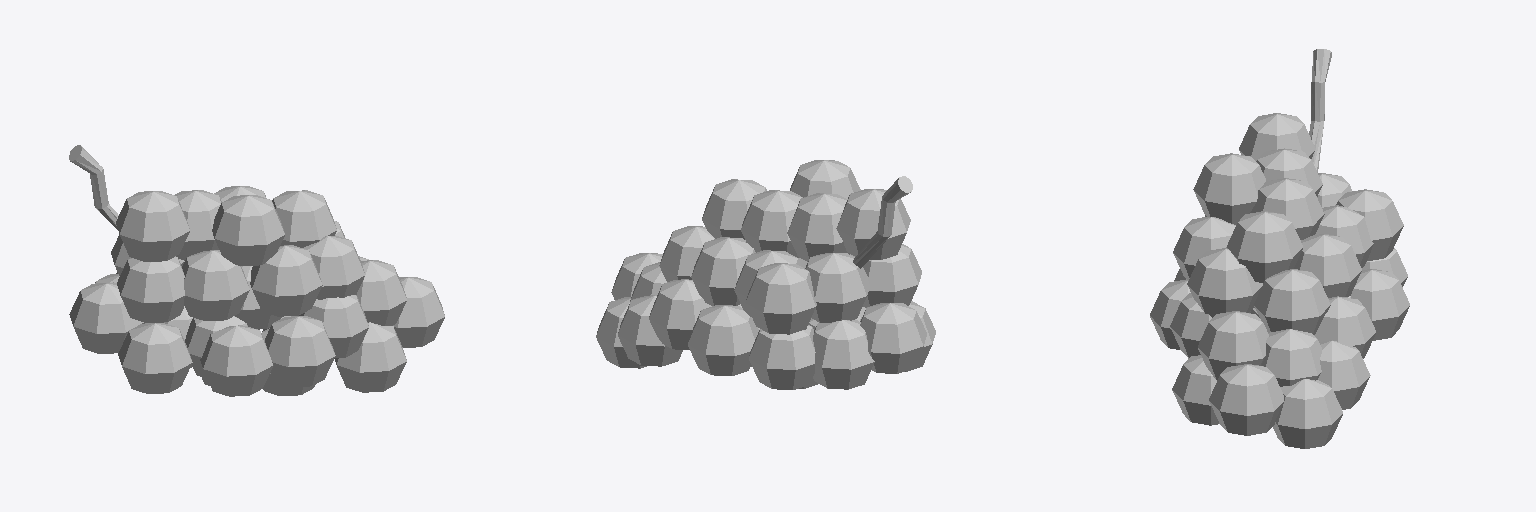
The model's file is grapes.obj.
3 views of the same model, side by side, from view 1: azimuth 30°, elevation 25°; view 2: azimuth 150°, elevation 25°; view 3: azimuth 270°, elevation 25° (orthographic).
Visible parts, largest first — view 1: Grape.008|Sphere|Dupli|, Grape.012|Sphere|Dupli|, Grape.025|Sphere|Dupli|, Grape.007|Sphere|Dupli|, Grape.006|Sphere|Dupli|, Grape.023|Sphere|Dupli|, Grape.024|Sphere|Dupli|, Grape.011|Sphere|Dupli|, Grape.009|Sphere|Dupli|, Grape.036|Sphere|Dupli|, Grape.014|Sphere|Dupli|, Grape.022|Sphere|Dupli| (+8 smaller); view 2: Grape.031|Sphere|Dupli|, Grape.015|Sphere|Dupli|, Grape.009|Sphere|Dupli|, Grape.017|Sphere|Dupli|, Grape.010|Sphere|Dupli|, Grape.016|Sphere|Dupli|, Grape.012|Sphere|Dupli|, Grape.013|Sphere|Dupli|, Grape.019|Sphere|Dupli|, Grape.020|Sphere|Dupli|, Grape.004|Sphere|Dupli|, Grape.011|Sphere|Dupli| (+10 smaller); view 3: Grape.032|Sphere|Dupli|, Grape.014|Sphere|Dupli|, Grape.003|Sphere|Dupli|, Grape|Sphere|Dupli|, Grape.025|Sphere|Dupli|, Grape.022|Sphere|Dupli|, Grape.002|Sphere|Dupli|, Grape.019|Sphere|Dupli|, Grape.001|Sphere|Dupli|, Grape.015|Sphere|Dupli|, Grape.020|Sphere|Dupli|, Grape.031|Sphere|Dupli| (+12 smaller).
Part boxes in pixels (left/top/right/bottom): Grape.008|Sphere|Dupli|: left=118, top=323, right=192, bottom=393; Grape.012|Sphere|Dupli|: left=116, top=191, right=189, bottom=261; Grape.025|Sphere|Dupli|: left=212, top=195, right=284, bottom=265; Grape.007|Sphere|Dupli|: left=200, top=325, right=273, bottom=396; Grape.006|Sphere|Dupli|: left=265, top=316, right=335, bottom=387; Grape.023|Sphere|Dupli|: left=250, top=245, right=322, bottom=316; Grape.024|Sphere|Dupli|: left=182, top=250, right=249, bottom=320; Grape.011|Sphere|Dupli|: left=117, top=256, right=184, bottom=322; Grape.009|Sphere|Dupli|: left=69, top=282, right=143, bottom=353; Grape.036|Sphere|Dupli|: left=334, top=322, right=406, bottom=392; Grape.014|Sphere|Dupli|: left=272, top=190, right=336, bottom=247; Grape.022|Sphere|Dupli|: left=303, top=235, right=364, bottom=299; Grape.031|Sphere|Dupli|: left=745, top=263, right=816, bottom=334; Grape.015|Sphere|Dupli|: left=688, top=305, right=758, bottom=375; Grape.009|Sphere|Dupli|: left=860, top=303, right=926, bottom=373; Grape.017|Sphere|Dupli|: left=813, top=319, right=874, bottom=389; Grape.010|Sphere|Dupli|: left=805, top=253, right=869, bottom=322; Grape.016|Sphere|Dupli|: left=749, top=325, right=815, bottom=389; Grape.012|Sphere|Dupli|: left=836, top=189, right=910, bottom=259; Grape.013|Sphere|Dupli|: left=787, top=193, right=849, bottom=261; Grape.019|Sphere|Dupli|: left=691, top=237, right=755, bottom=305; Grape.020|Sphere|Dupli|: left=741, top=190, right=802, bottom=257; Grape.004|Sphere|Dupli|: left=649, top=279, right=711, bottom=349; Grape.011|Sphere|Dupli|: left=863, top=244, right=921, bottom=307; Grape.032|Sphere|Dupli|: left=1209, top=364, right=1283, bottom=435; Grape.014|Sphere|Dupli|: left=1226, top=211, right=1302, bottom=282; Grape.003|Sphere|Dupli|: left=1254, top=269, right=1330, bottom=334; Grape|Sphere|Dupli|: left=1273, top=379, right=1342, bottom=448; Grape.025|Sphere|Dupli|: left=1193, top=153, right=1265, bottom=224; Grape.022|Sphere|Dupli|: left=1187, top=248, right=1262, bottom=317; Grape.002|Sphere|Dupli|: left=1198, top=311, right=1268, bottom=379; Grape.019|Sphere|Dupli|: left=1294, top=234, right=1361, bottom=297; Grape.001|Sphere|Dupli|: left=1262, top=329, right=1321, bottom=386; Grape.015|Sphere|Dupli|: left=1350, top=269, right=1409, bottom=340; Grape.020|Sphere|Dupli|: left=1250, top=178, right=1324, bottom=239; Grape.031|Sphere|Dupli|: left=1336, top=189, right=1403, bottom=260.
Size of the model in its own units: 158 by 118 by 105.